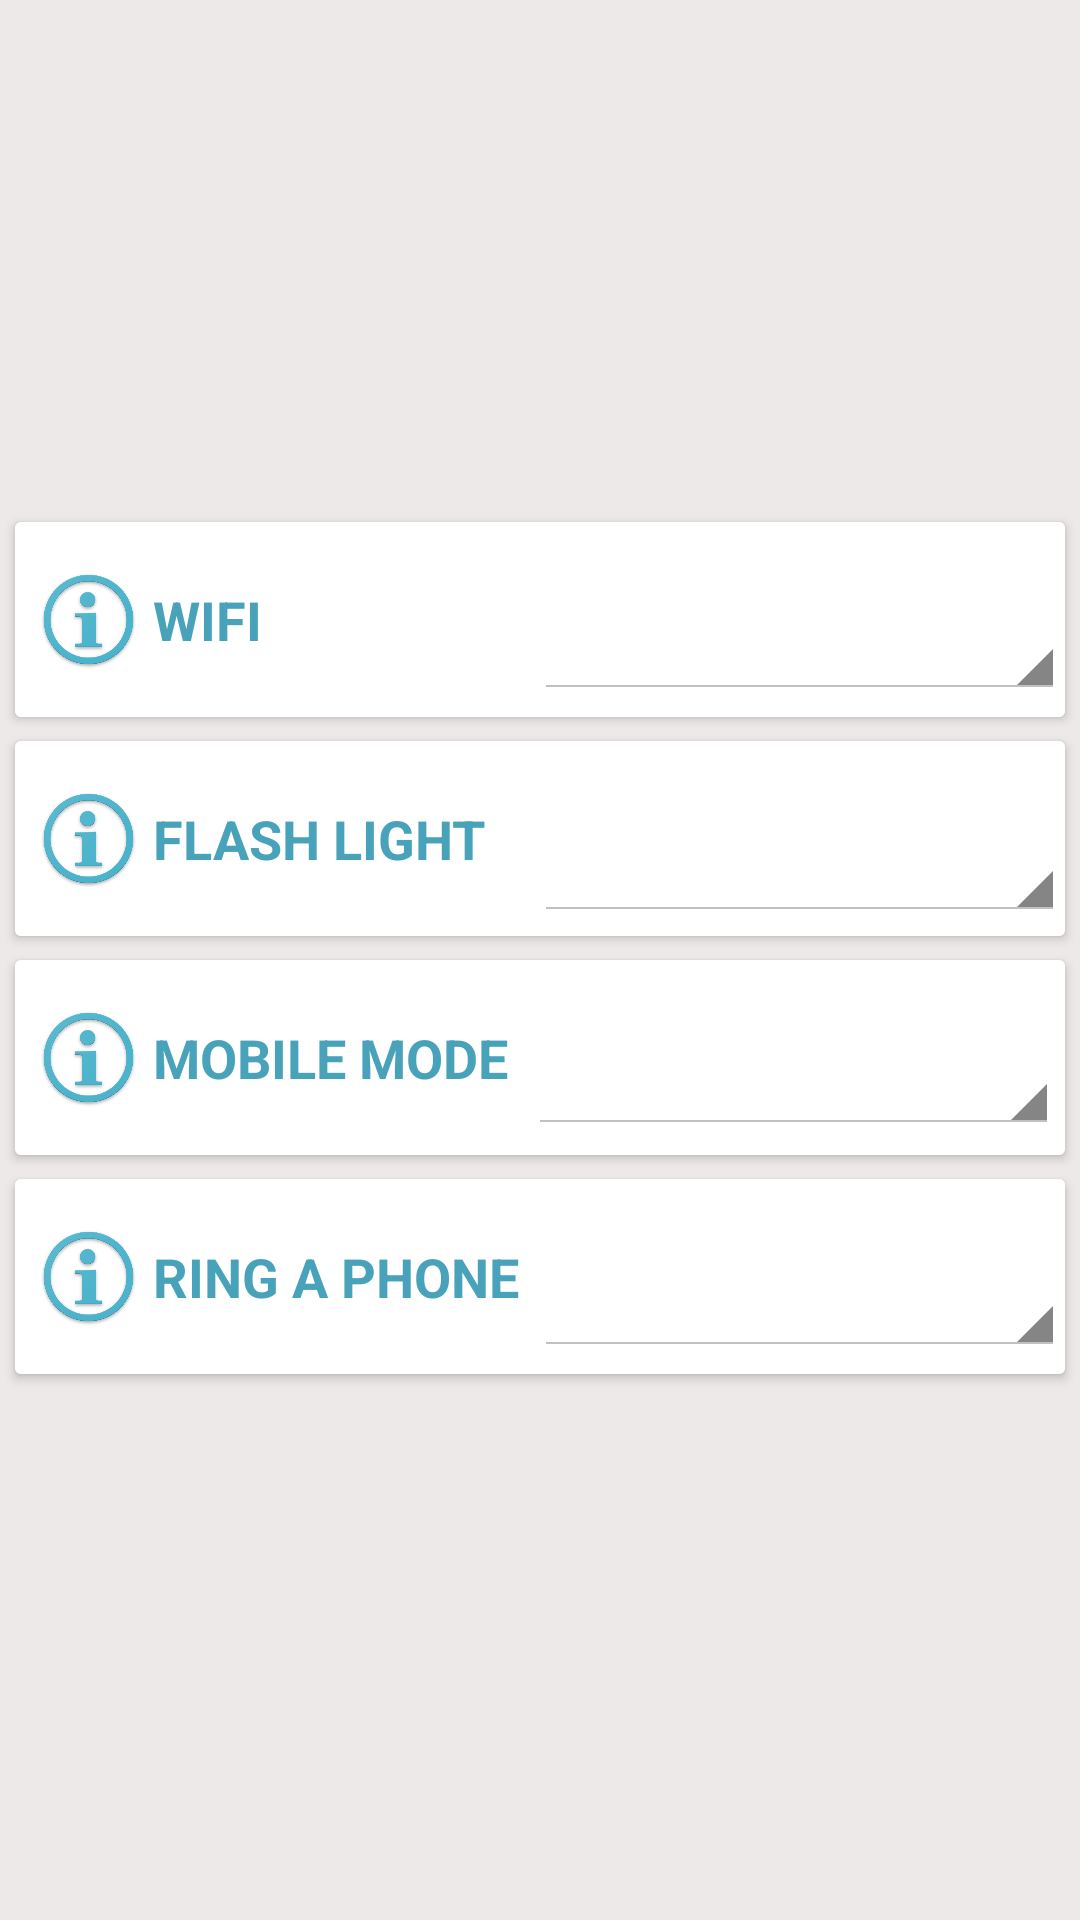

Screen size 1080 x 1920. Icon name, then its center in pixels as (x=x, y=y):
info details: (x=88, y=621), (x=88, y=840), (x=88, y=1059), (x=88, y=1278)
